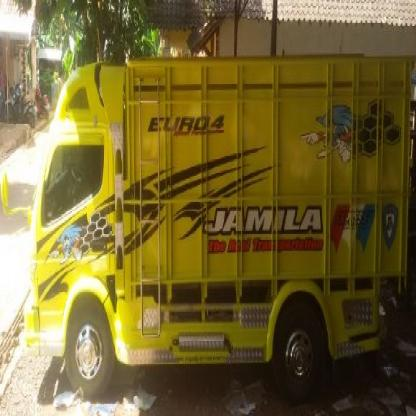truck: (3, 50, 416, 400)
